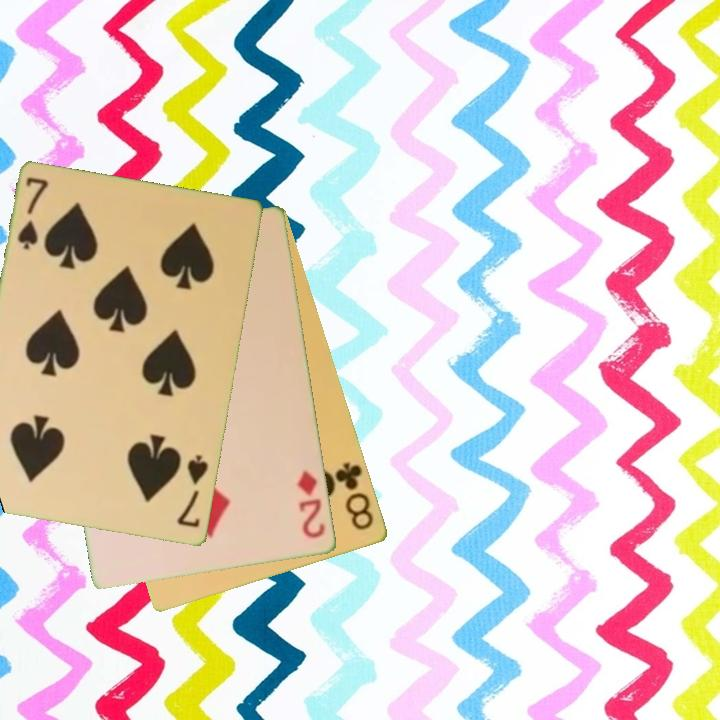2d: (294, 467, 329, 542)
7s: (174, 451, 212, 531), (14, 174, 52, 253)
8c: (332, 458, 377, 534)
